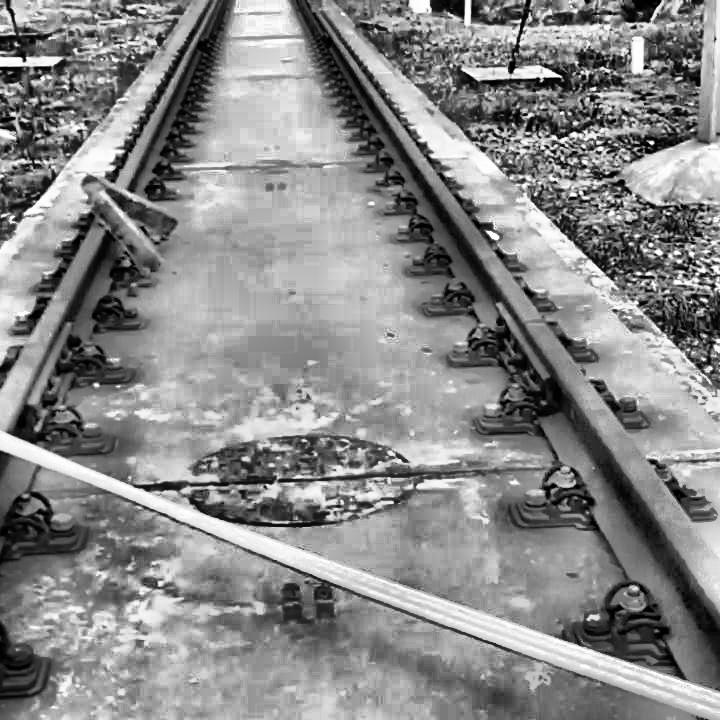Trash: (0, 424, 720, 720), (71, 165, 188, 290)
